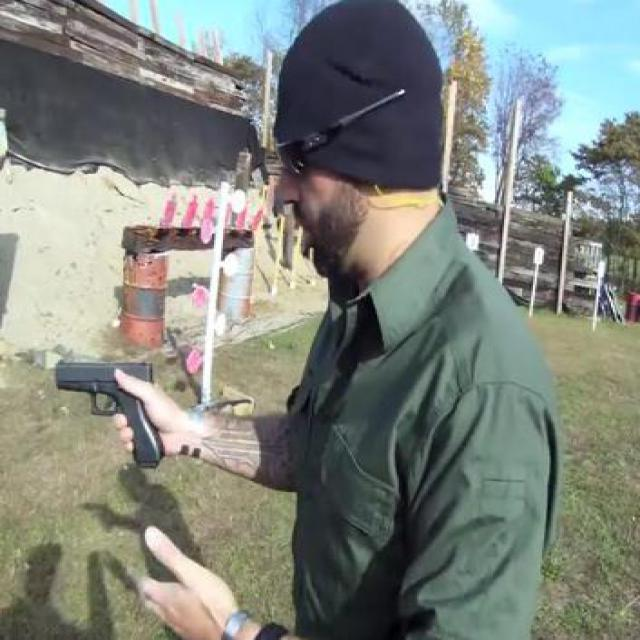gun: (51, 354, 165, 468)
